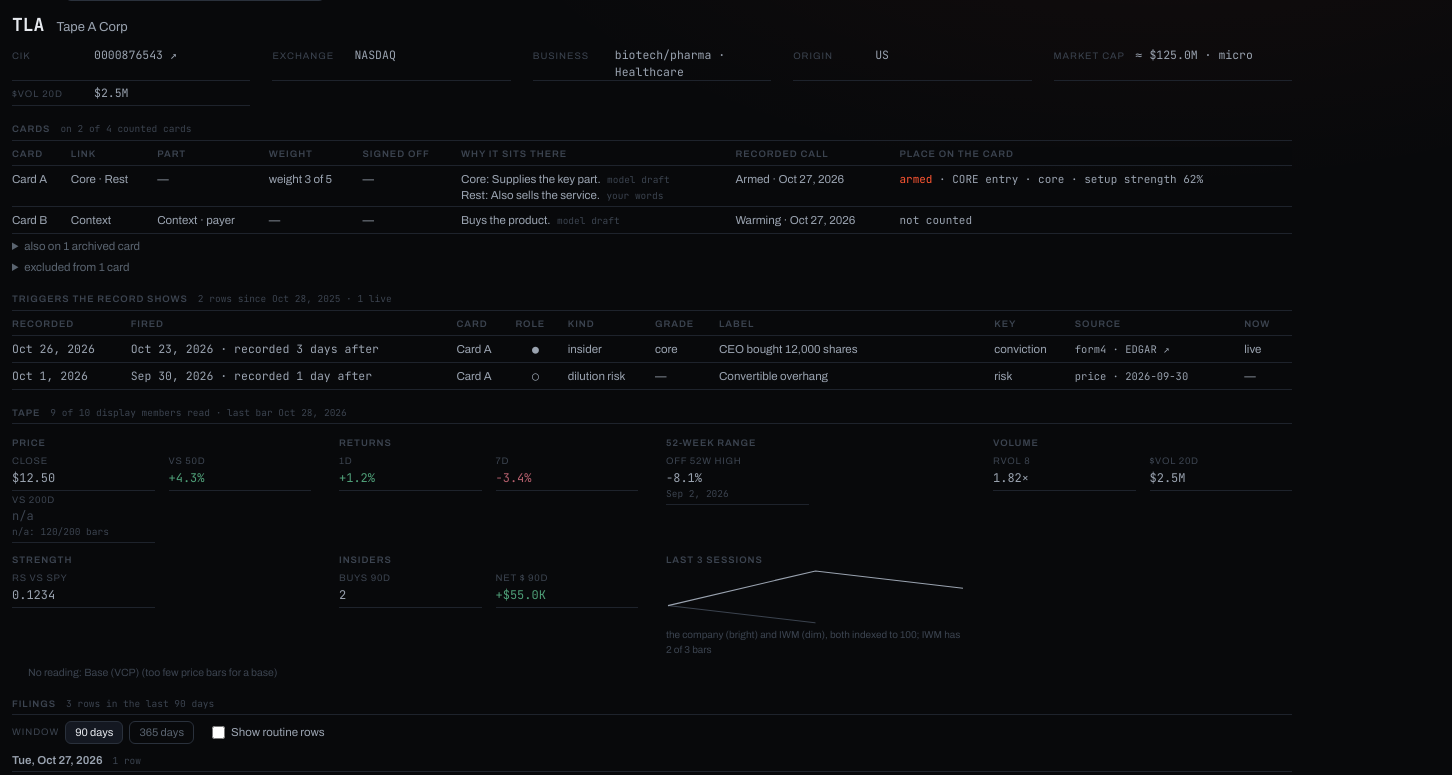
Test: TickerLookup — the sections › shows routine rows in place on request and opens a row to its detail with an EDGAR link
Step 1. Click the checkbox labelled "Show routine rows" → (218, 732), box [212, 726, 225, 739]
(page scrolled)
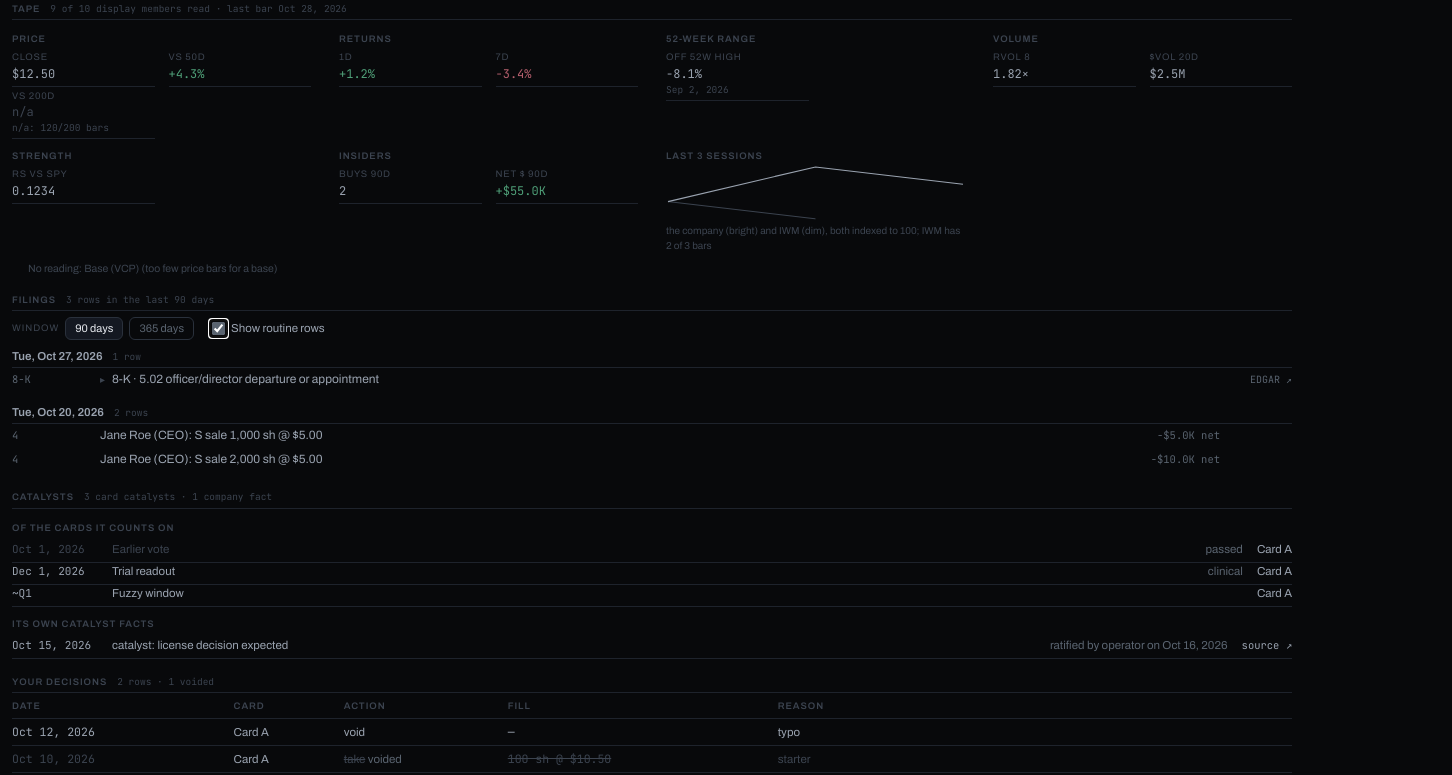
Check: the number of list items with test id "tl-filing" is 3, box [12, 370, 1292, 394]; [12, 428, 1220, 442]; [12, 452, 1220, 466]
Step 2. Click the button "▸ 8-K · 5.02 officer/director departure or appointment" → (240, 380), box [100, 371, 379, 388]
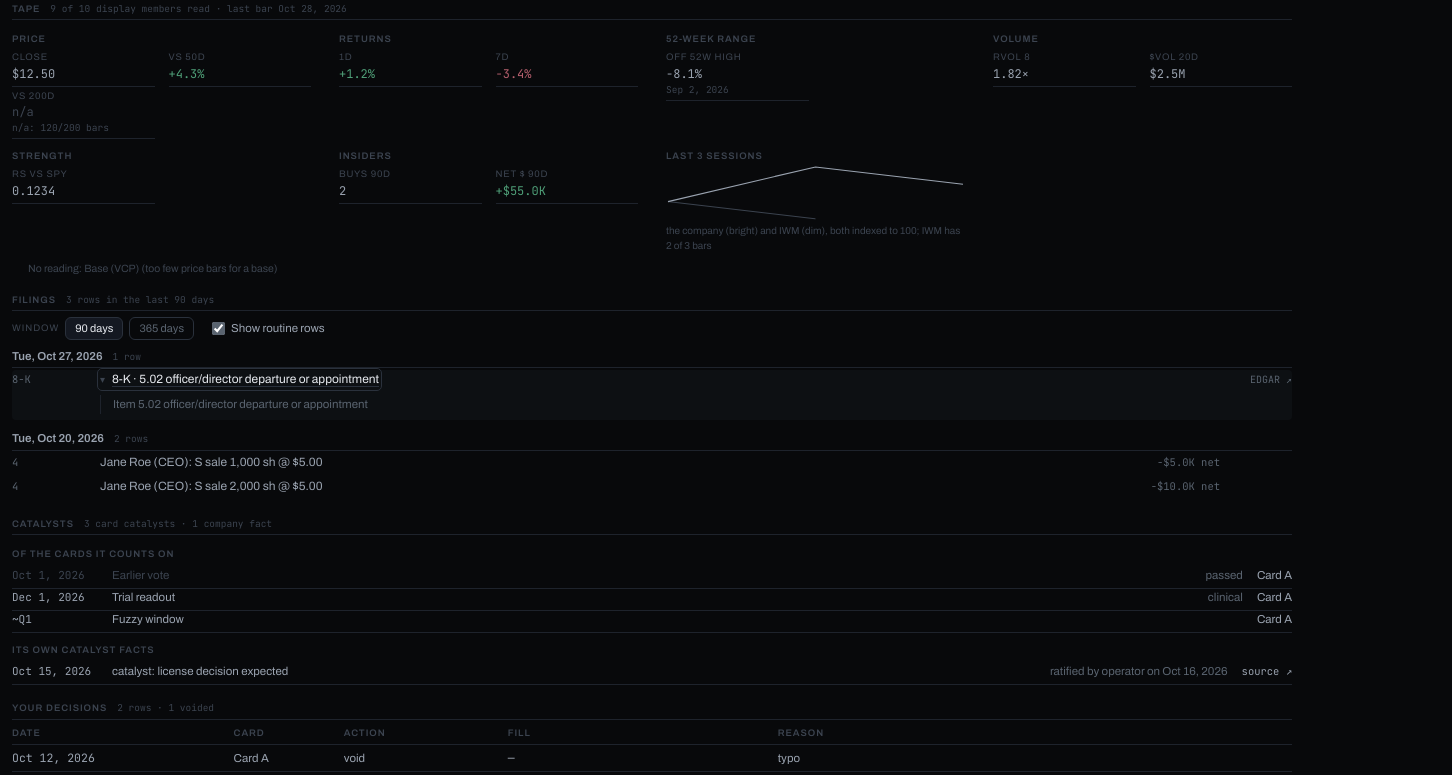
Check: the list with test id "tl-fdetail" reads "Item 5.02 officer/director departure or appointment", box [113, 398, 368, 410]
